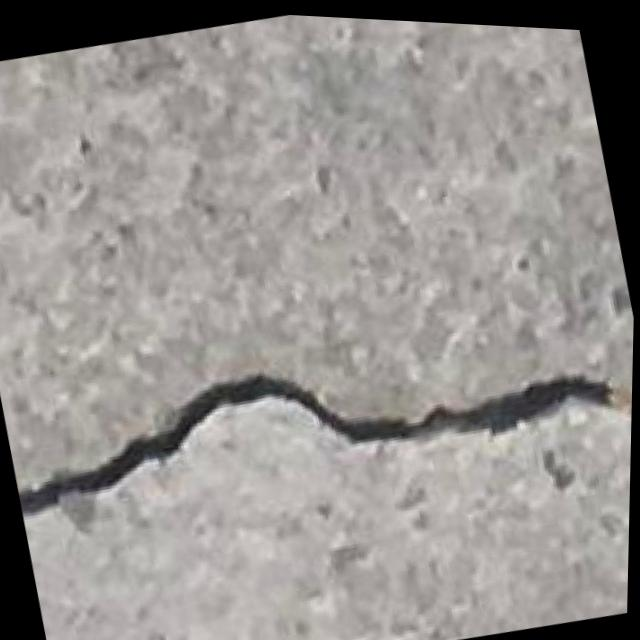Crack: (0, 267, 635, 584)
